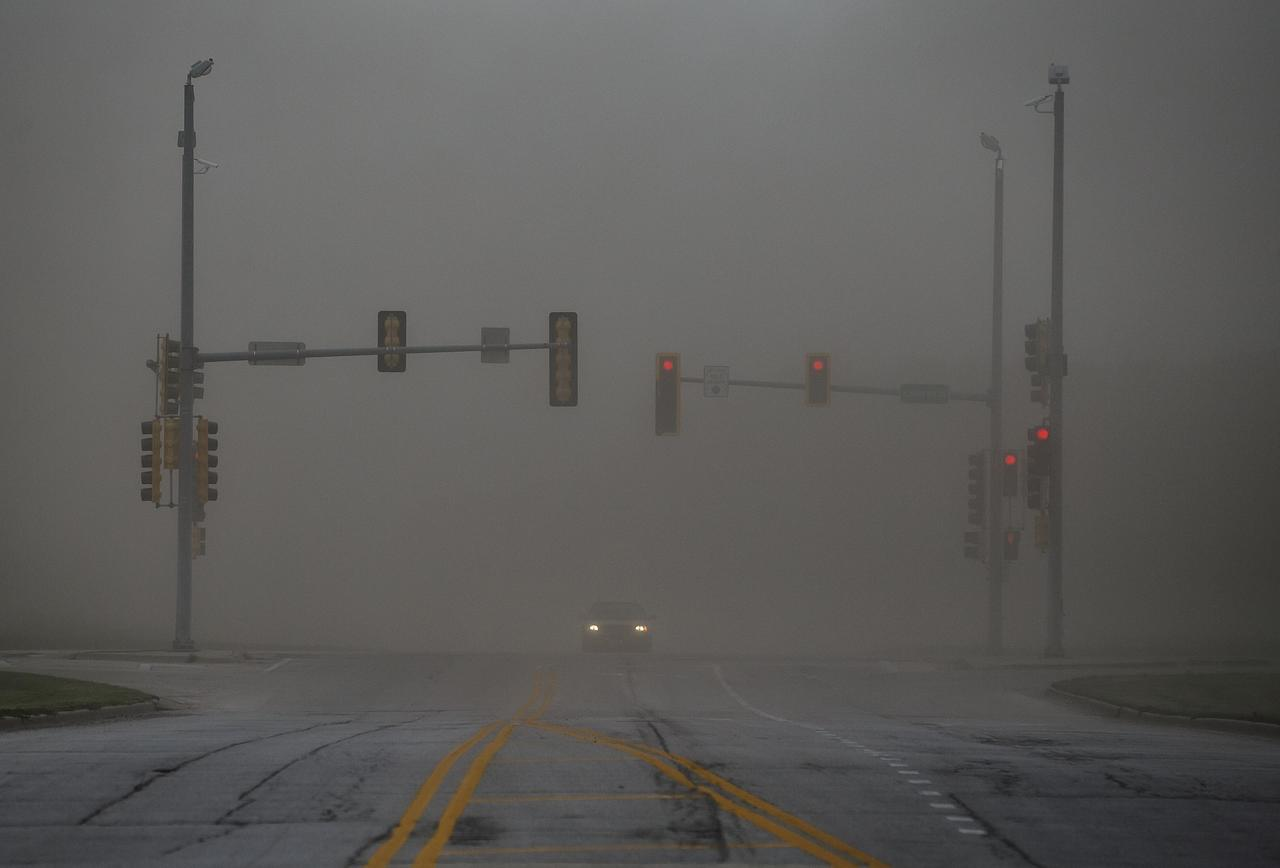car: (576, 598, 655, 647)
